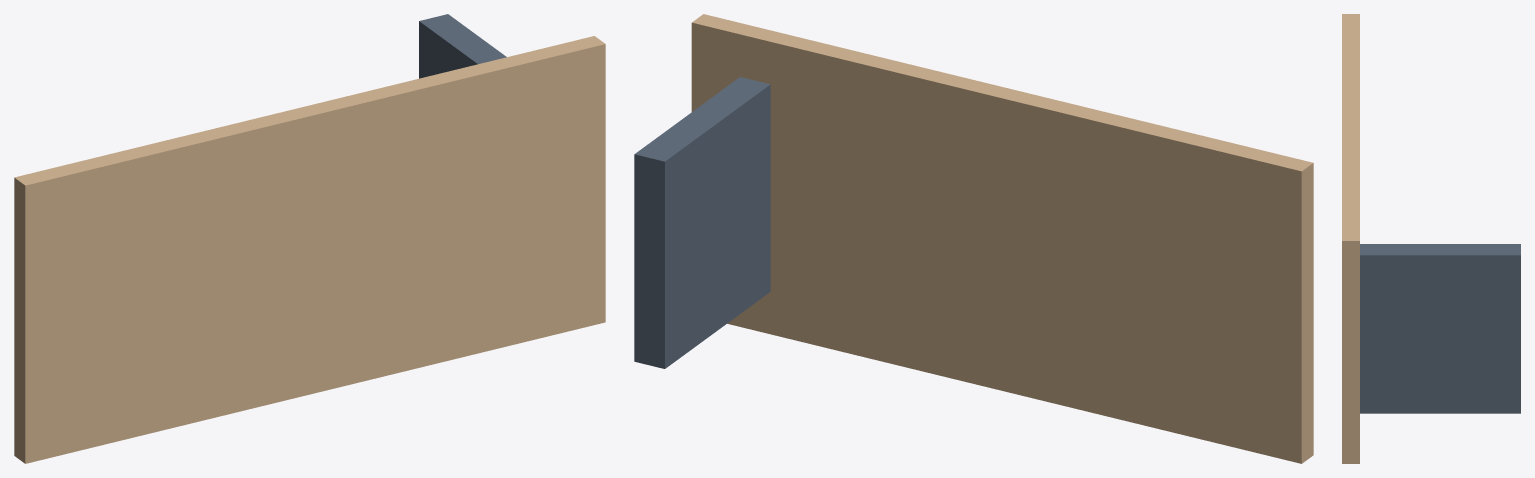
Rendered from meeting_table.glb.
3 views of the same model, side by side, from view 1: azimuth 30°, elevation 25°; view 2: azimuth 150°, elevation 25°; view 3: azimuth 270°, elevation 25° (orthographic). The views are drawn at different scales.
Visible parts, largest first — view 1: top, leg; view 2: top, leg; view 3: leg, top.
Part boxes in pixels (x1,y1,x2,y2): top: [14, 36, 605, 463]; leg: [419, 14, 506, 78]; top: [691, 14, 1313, 463]; leg: [634, 77, 770, 368]; leg: [1360, 244, 1520, 413]; top: [1342, 14, 1359, 463].
Bounding box in the file's own units: 2.4 × 1.1 × 0.8.
